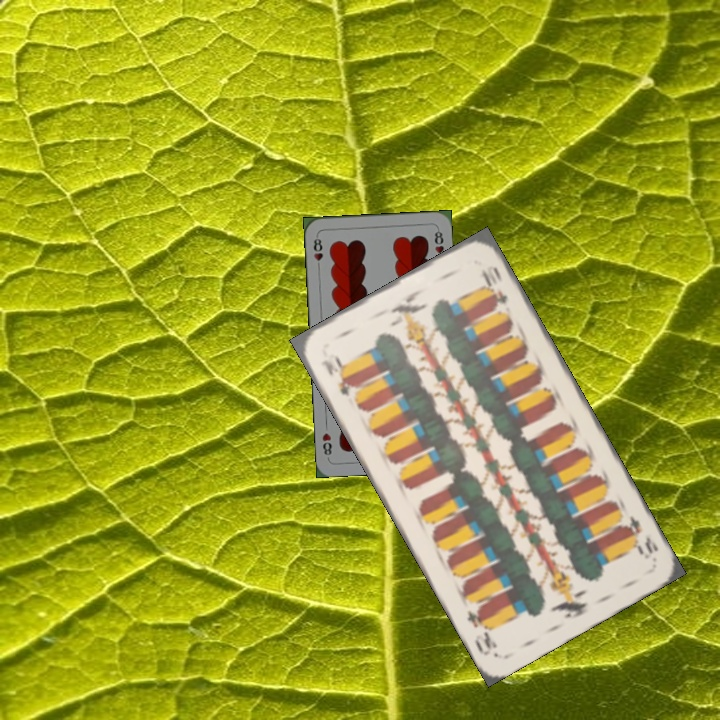E10: (617, 511, 661, 562), (317, 353, 355, 400)
H8: (310, 232, 325, 272)
